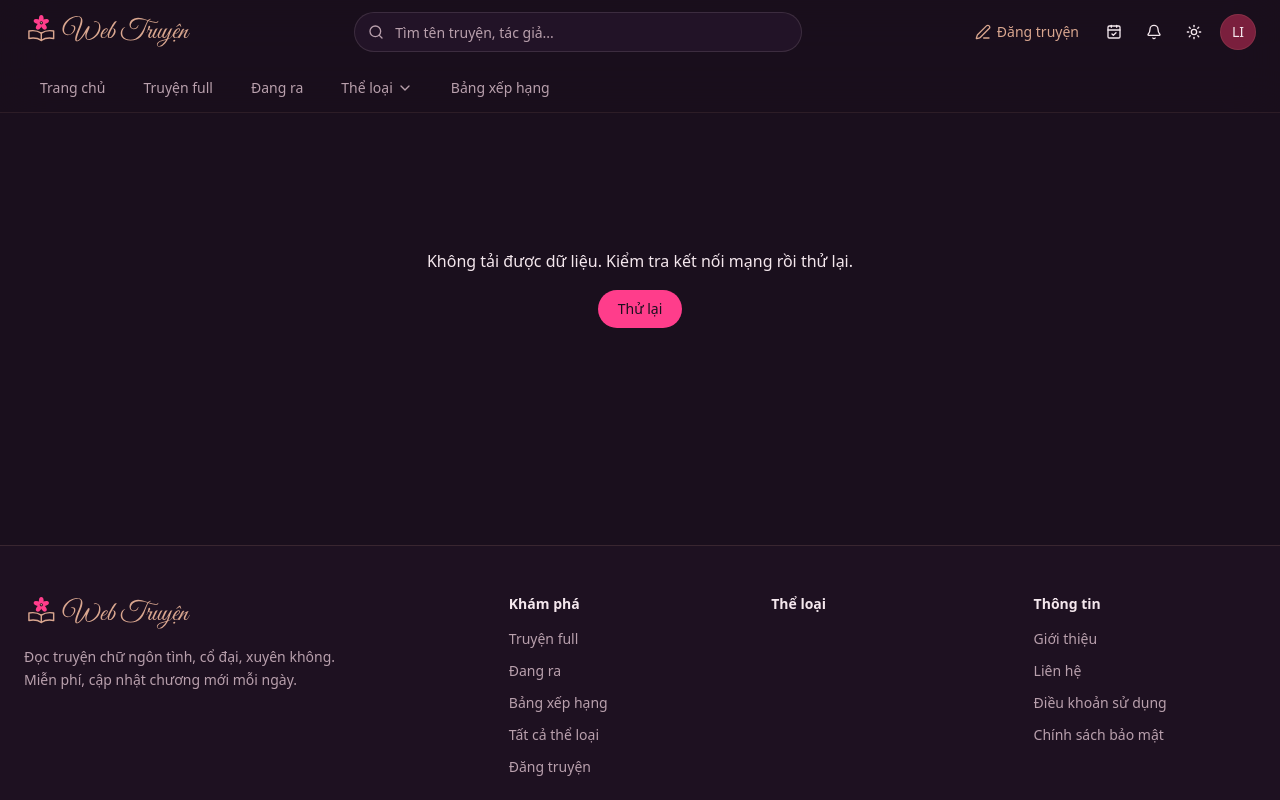
Test: trang quản lý truyện: lỗi mạng thì cho thử lại, không hiện trang 404
This screenshot has width=1280, height=800.
Check: the text "Không tải được dữ liệu. Kiểm tra kết nối mạng rồi thử lại." is shown, box 427,249 -> 853,273
Click the button "Thử lại": (640, 309) 597,289 -> 683,329
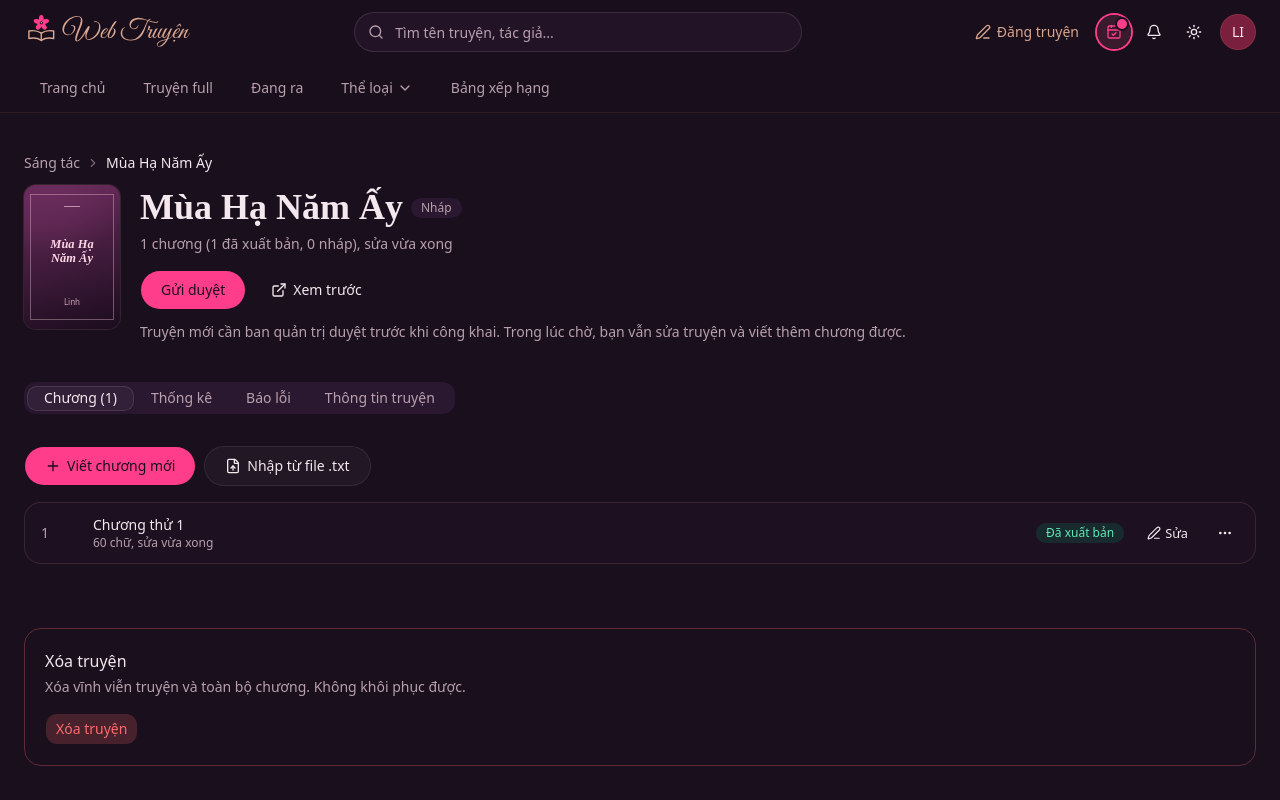
Check: the heading "Mùa Hạ Năm Ấy" is shown, box 140,185 -> 403,230
